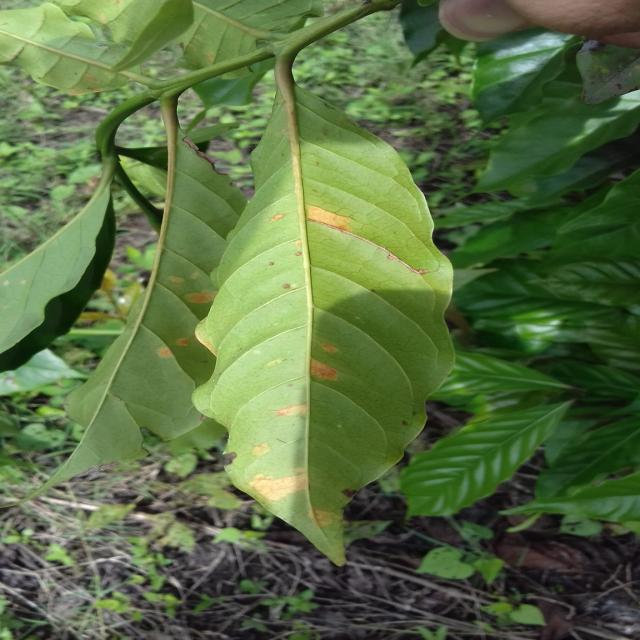Enfermedad-Roya: (192, 52, 456, 569)
